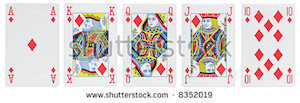AceOfDiamonds: (3, 1, 62, 91)
JackOfDiamonds: (177, 1, 237, 92)
KingOfDiamonds: (63, 2, 121, 91)
QueenOfDiamonds: (122, 2, 180, 90)
TenOfDiamonds: (237, 3, 298, 90)
